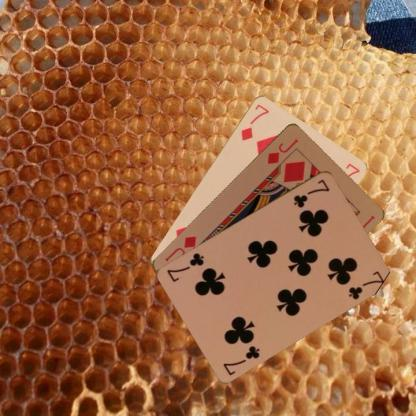7c: (221, 342, 261, 376), (291, 176, 331, 209)
7d: (238, 101, 270, 142)
Jd: (264, 136, 300, 165)
